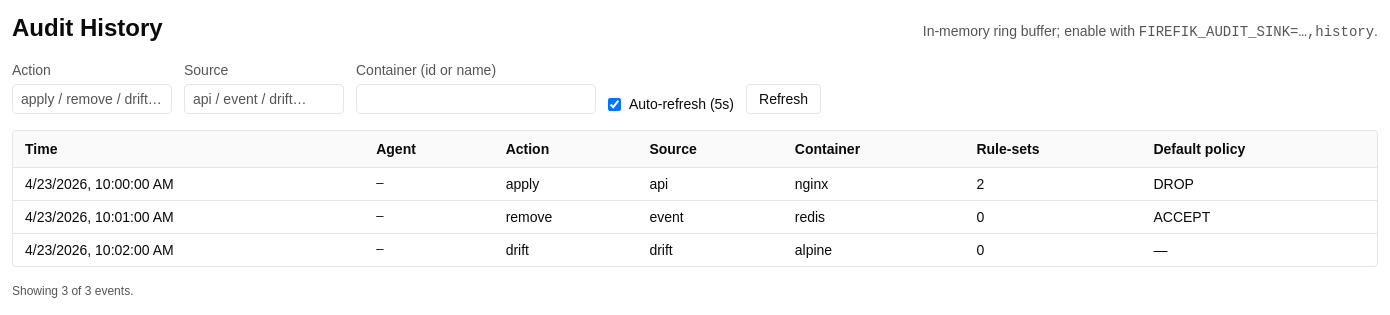
Test: HistoryPage › filters events by source substring
The width and height of the screenshot is (1390, 315).
expect the text "nginx" is shown: met, box [783,168,964,200]
In the field with placeholder "api / event / drift…": (264, 99) [184,84,344,114], type "drift"
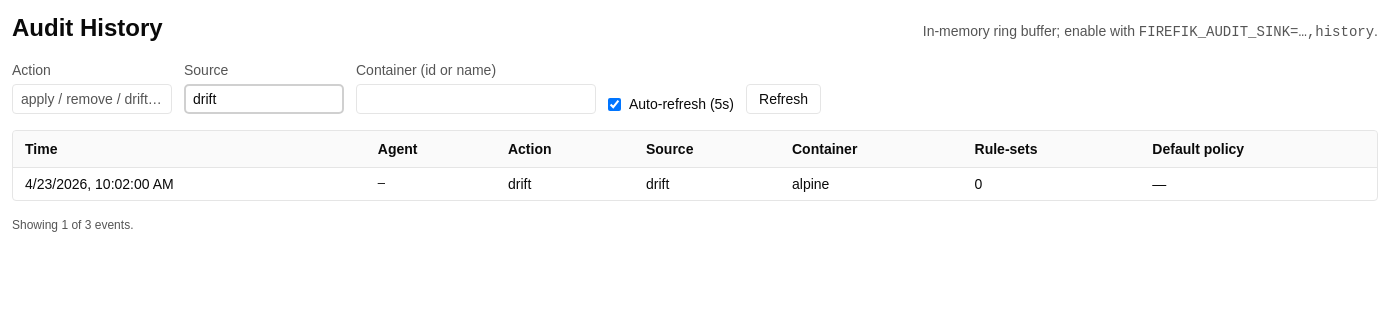
expect the text "alpine" is shown: met, box [780,168,962,200]
expect the text "nginx" is gone: met
